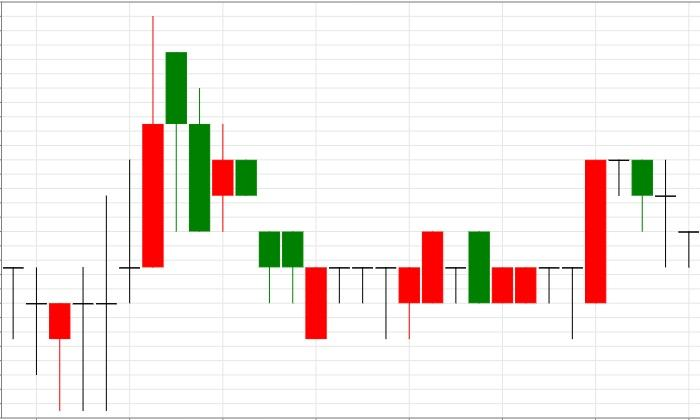hanging_man_fall: (48, 16, 187, 411)
